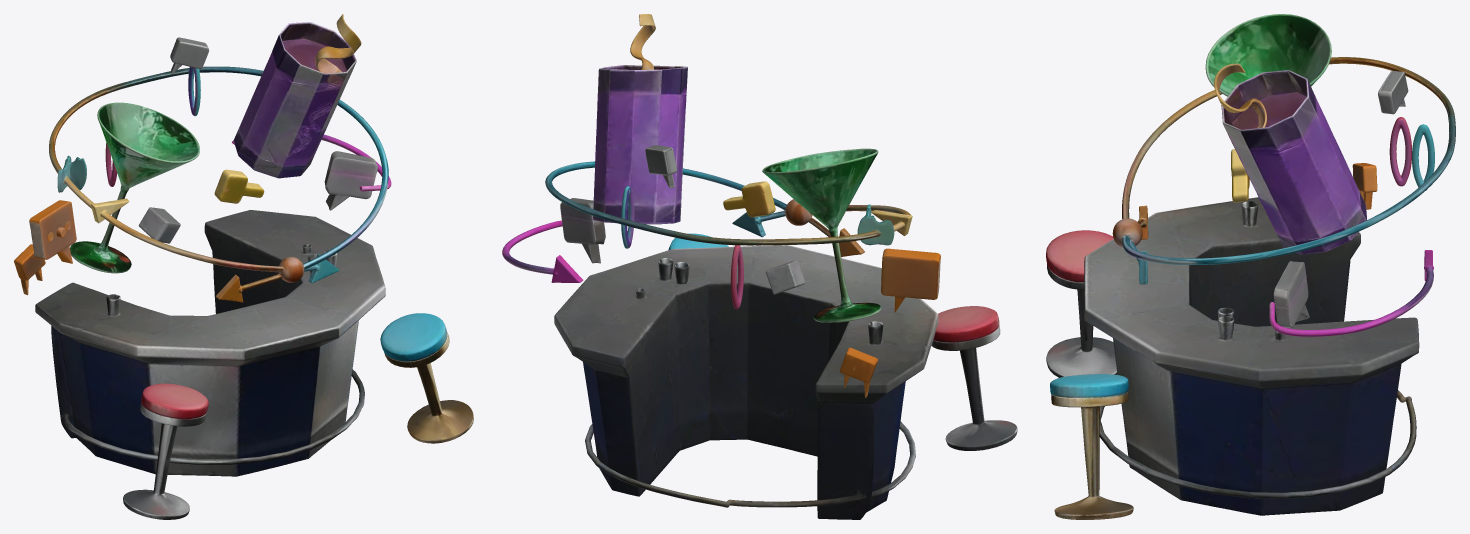
File: home-bar-neon.glb
The picture shows the model from 3 angles, left to right: view 1: azimuth 30°, elevation 25°; view 2: azimuth 150°, elevation 25°; view 3: azimuth 270°, elevation 25°; orthographic projection. The views are drawn at different scales.
Visible parts, largest first — view 1: tripo_part_0, tripo_part_4, tripo_part_1, tripo_part_2, tripo_part_3, tripo_part_5, tripo_part_7, tripo_part_8, tripo_part_9, tripo_part_10, tripo_part_12, tripo_part_11 (+2 smaller); view 2: tripo_part_0, tripo_part_4, tripo_part_2, tripo_part_1, tripo_part_5, tripo_part_7, tripo_part_8, tripo_part_6, tripo_part_9, tripo_part_11, tripo_part_12, tripo_part_10 (+2 smaller); view 3: tripo_part_0, tripo_part_4, tripo_part_2, tripo_part_1, tripo_part_5, tripo_part_3, tripo_part_8, tripo_part_6, tripo_part_12, tripo_part_13, tripo_part_14, tripo_part_11 (+1 smaller).
Boxes of the visible parts, x1,y1,x2,y2 form: tripo_part_0: [35, 210, 385, 476]; tripo_part_4: [233, 14, 361, 178]; tripo_part_1: [49, 66, 388, 302]; tripo_part_2: [70, 102, 199, 273]; tripo_part_3: [380, 313, 473, 443]; tripo_part_5: [123, 383, 208, 519]; tripo_part_7: [29, 200, 76, 263]; tripo_part_8: [324, 151, 377, 210]; tripo_part_9: [214, 169, 264, 203]; tripo_part_10: [138, 207, 180, 243]; tripo_part_12: [170, 37, 209, 74]; tripo_part_11: [14, 244, 45, 295]; tripo_part_0: [554, 245, 938, 519]; tripo_part_4: [593, 14, 687, 224]; tripo_part_2: [762, 148, 880, 322]; tripo_part_1: [545, 161, 912, 256]; tripo_part_5: [931, 306, 1017, 450]; tripo_part_7: [881, 248, 940, 312]; tripo_part_8: [560, 198, 605, 263]; tripo_part_6: [502, 220, 583, 282]; tripo_part_9: [723, 181, 775, 217]; tripo_part_11: [839, 347, 877, 398]; tripo_part_12: [645, 145, 677, 188]; tripo_part_10: [765, 260, 805, 294]; tripo_part_0: [1084, 197, 1419, 515]; tripo_part_4: [1214, 63, 1366, 254]; tripo_part_2: [1205, 14, 1331, 96]; tripo_part_1: [1112, 57, 1455, 284]; tripo_part_5: [1046, 230, 1117, 377]; tripo_part_3: [1050, 374, 1133, 519]; tripo_part_8: [1273, 261, 1309, 328]; tripo_part_6: [1269, 250, 1433, 336]; tripo_part_12: [1378, 71, 1408, 114]; tripo_part_13: [1389, 117, 1411, 186]; tripo_part_14: [1412, 124, 1434, 190]; tripo_part_11: [1352, 163, 1377, 209].
Bounding box in the file's own units: 0.977 × 0.9802 × 0.809.
Materials: 15 (15 with a texture image).
